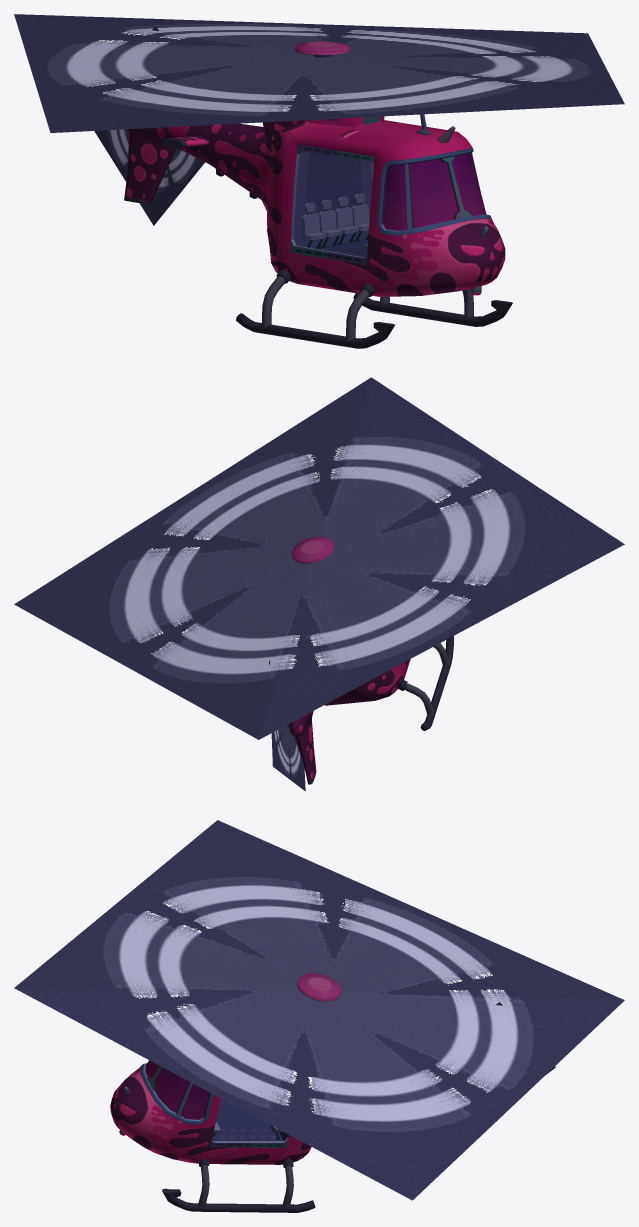
Rendered from Helicopter1.fbx.
3 views of the same model, one above another, from view 1: azimuth 30°, elevation 25°; view 2: azimuth 150°, elevation 25°; view 3: azimuth 270°, elevation 25° (orthographic). The views are drawn at different scales.
Visible parts, largest first — view 1: Vint1, Helicopter_01, Vint2; view 2: Vint1, Helicopter_01, Vint2; view 3: Vint1, Helicopter_01.
Boxes of the visible parts, box(x1,y1,x2,y2) form: Vint1: box(14, 14, 624, 132); Helicopter_01: box(124, 41, 512, 348); Vint2: box(94, 26, 204, 225); Vint1: box(14, 377, 624, 739); Helicopter_01: box(286, 536, 453, 784); Vint2: box(269, 660, 305, 791); Vint1: box(14, 820, 624, 1200); Helicopter_01: box(110, 973, 341, 1212).
Bounding box in the file's own units: 2008 × 918 × 1994.
2 materials, 2 textured.
